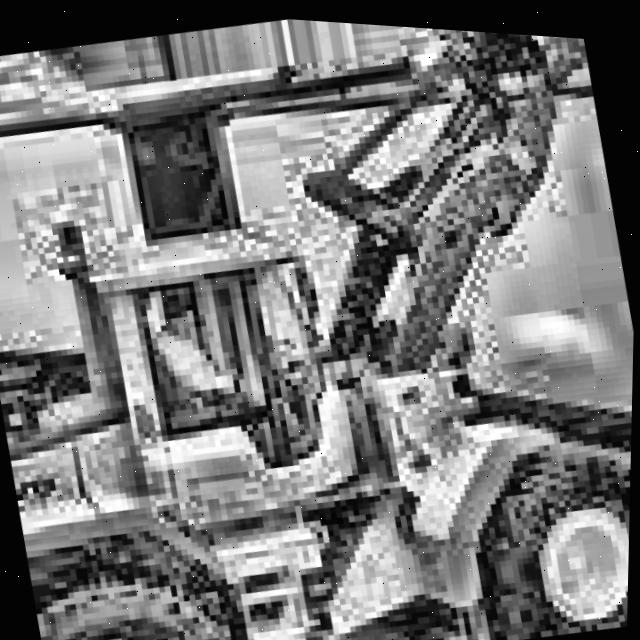buldozerpayloadergrader: (0, 124, 638, 640)
